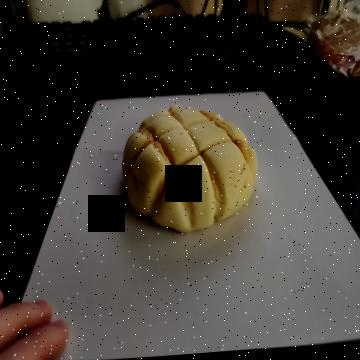melon_bread: (122, 105, 260, 234)
